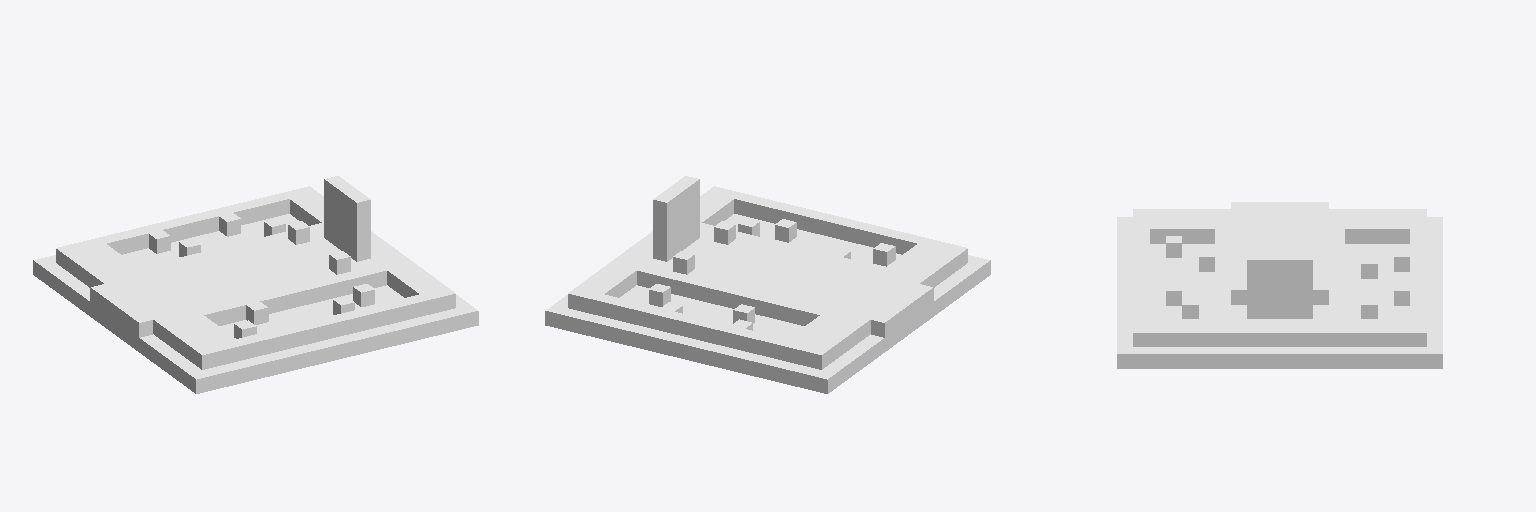
Rendered from onewaywater.obj.
The picture shows the model from 3 angles: view 1: azimuth 30°, elevation 25°; view 2: azimuth 150°, elevation 25°; view 3: azimuth 270°, elevation 25°; orthographic projection.
Size of the model in its own units: 20 by 6 by 20.